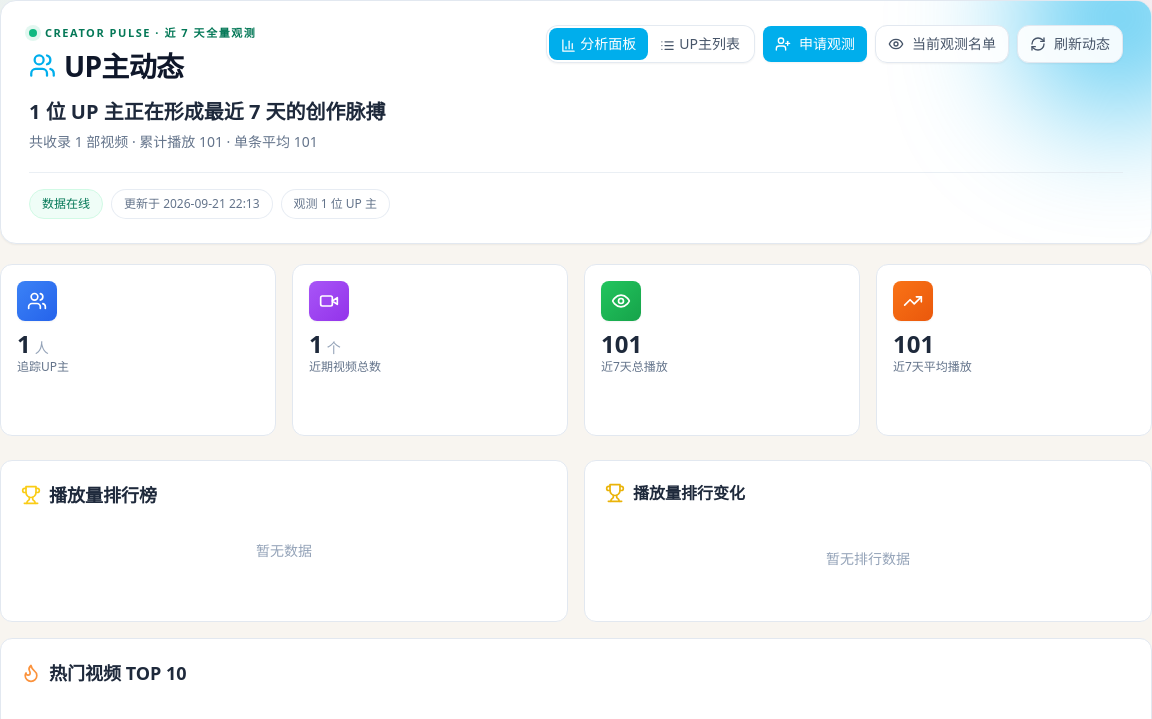
durable analysis jobs › reloads saved analysis on success without progress.result
The image size is (1152, 719).
Click the button "刷新动态" at (1070, 44), box [1017,25,1123,63]
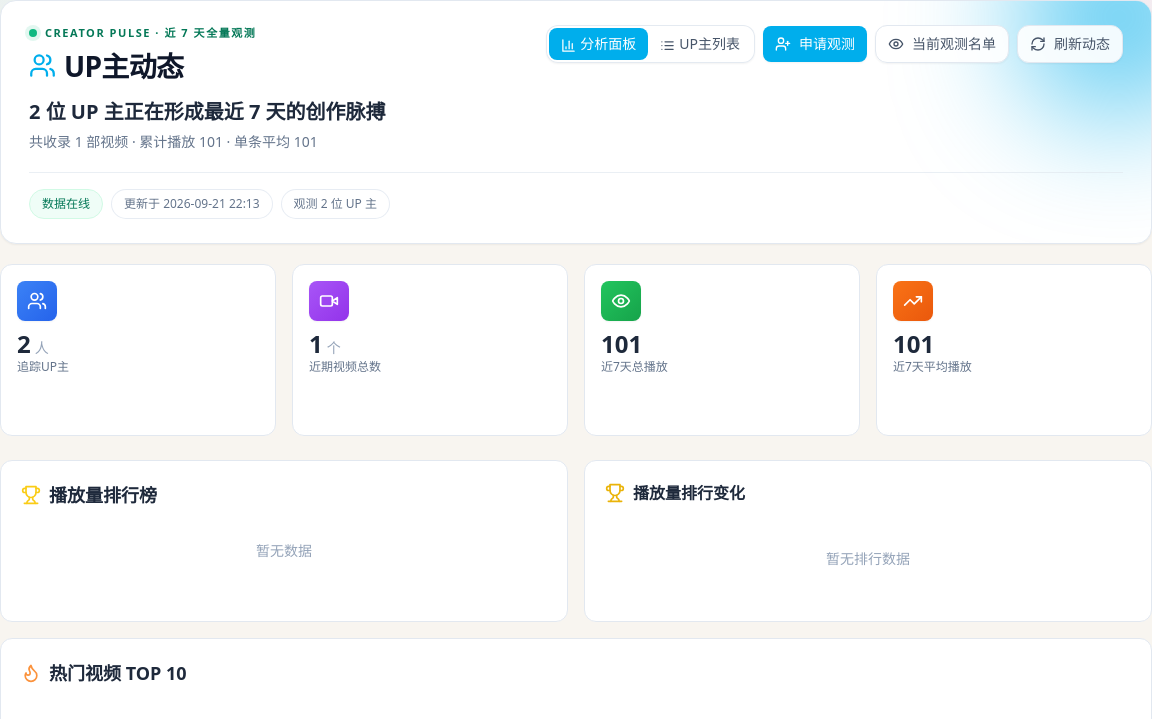
Result: the text "观测 2 位 UP 主" is shown at [281,188,390,218]
